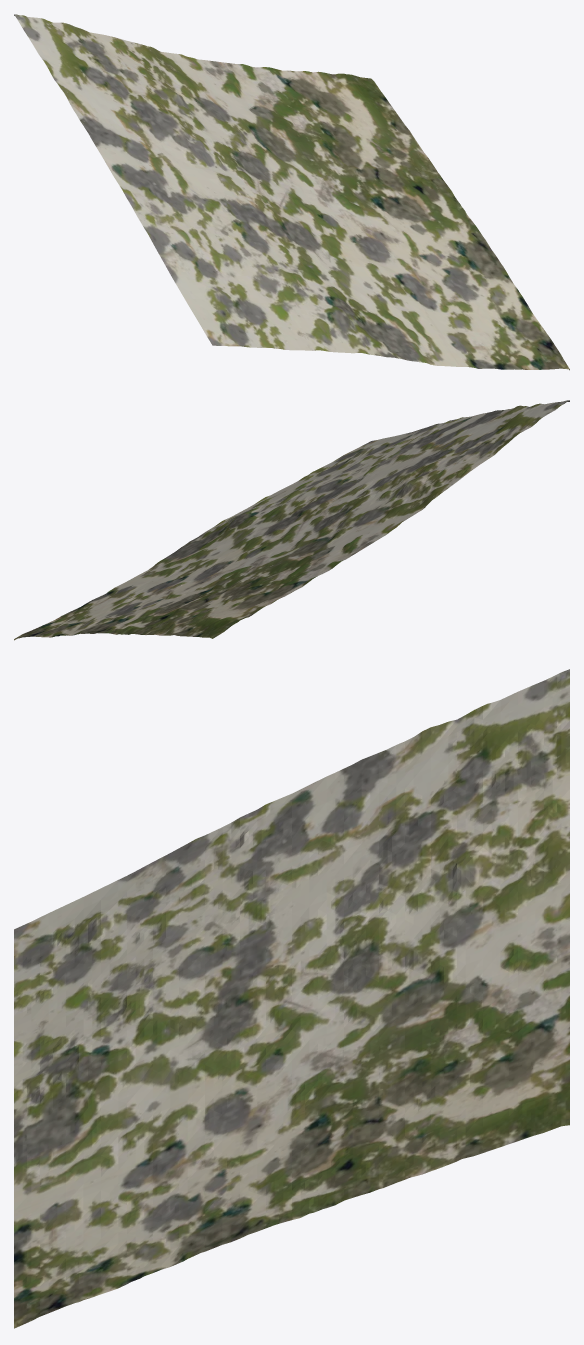
The picture shows the model from 3 angles, top to bottom: view 1: azimuth 30°, elevation 25°; view 2: azimuth 210°, elevation 25°; view 3: azimuth 270°, elevation 25°; orthographic projection. The views are drawn at different scales.
Size of the model in its own units: 250 by 199 by 241.
Materials: 1 (1 with a texture image).
